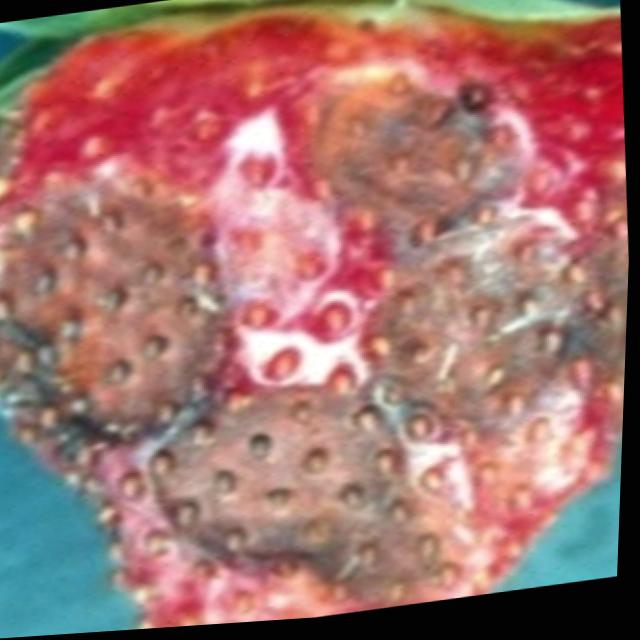Anthracnose Fruit Rot: (0, 52, 631, 621)
